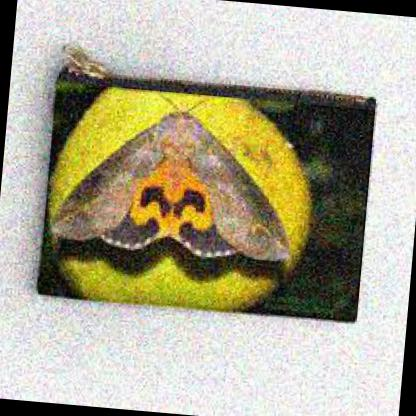fruit sucking moth: (46, 113, 291, 265)
